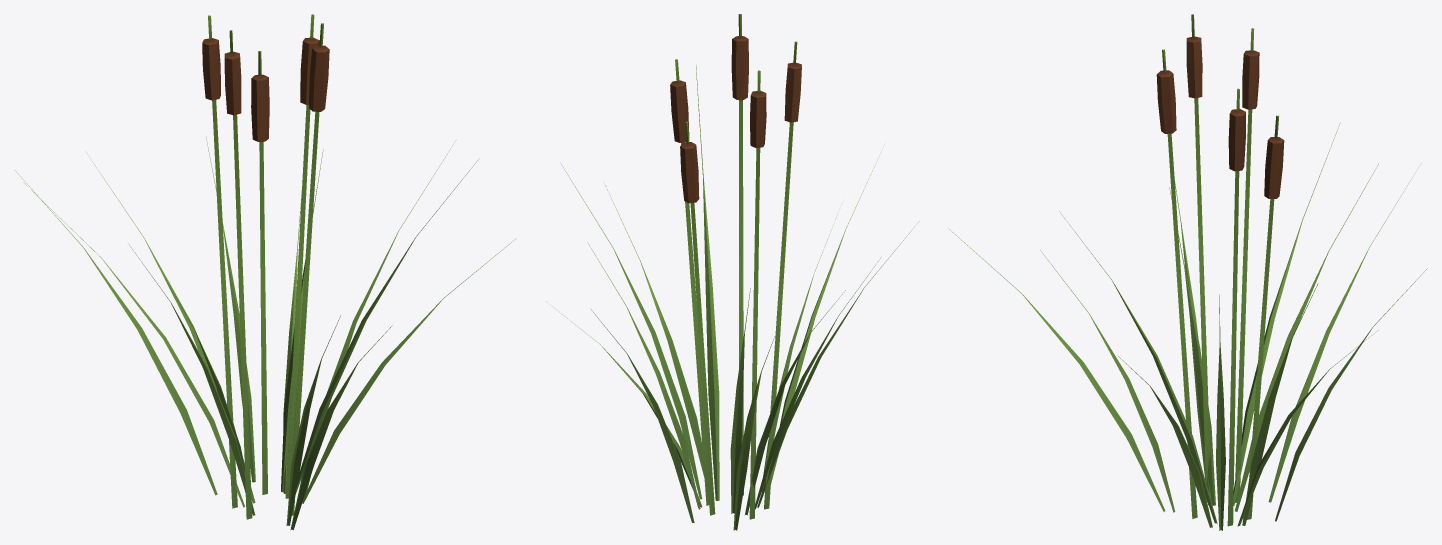
Rendered from reeds.glb.
3 views of the same model, side by side, from view 1: azimuth 30°, elevation 25°; view 2: azimuth 150°, elevation 25°; view 3: azimuth 270°, elevation 25° (orthographic). The views are drawn at different scales.
Visible parts, largest first — view 1: Reeds Reed, Reeds Cattail; view 2: Reeds Reed, Reeds Cattail; view 3: Reeds Reed, Reeds Cattail.
Boxes of the visible parts, x1,y1,x2,y2 form: Reeds Reed: (15,14,516,530); Reeds Cattail: (202,37,329,142); Reeds Reed: (546,14,919,530); Reeds Cattail: (670,36,801,203); Reeds Reed: (948,14,1427,530); Reeds Cattail: (1156,36,1284,198).
Bounding box in the file's own units: 1.39 × 1.76 × 1.61.
